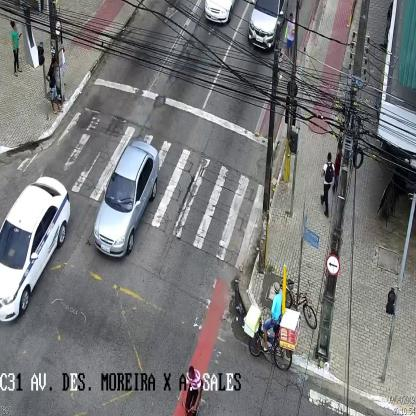bicycle: (243, 282, 299, 374), (279, 278, 317, 330), (176, 365, 208, 416)
car: (0, 173, 71, 323), (93, 139, 160, 258), (244, 0, 292, 54), (203, 0, 238, 25)
person: (46, 56, 64, 116), (320, 152, 334, 218), (10, 18, 23, 80), (284, 12, 294, 64)
